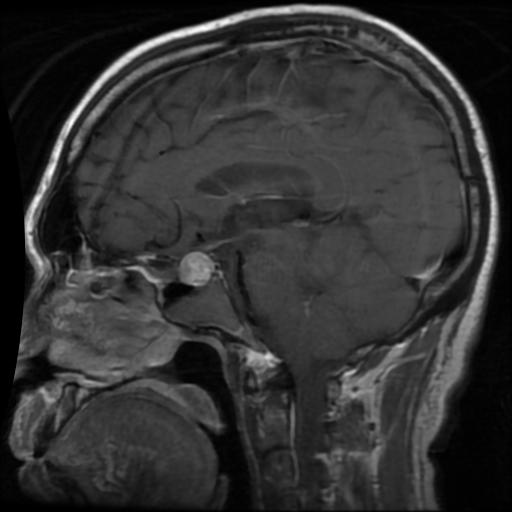Pituirity_tumour: (178, 250, 213, 286)
